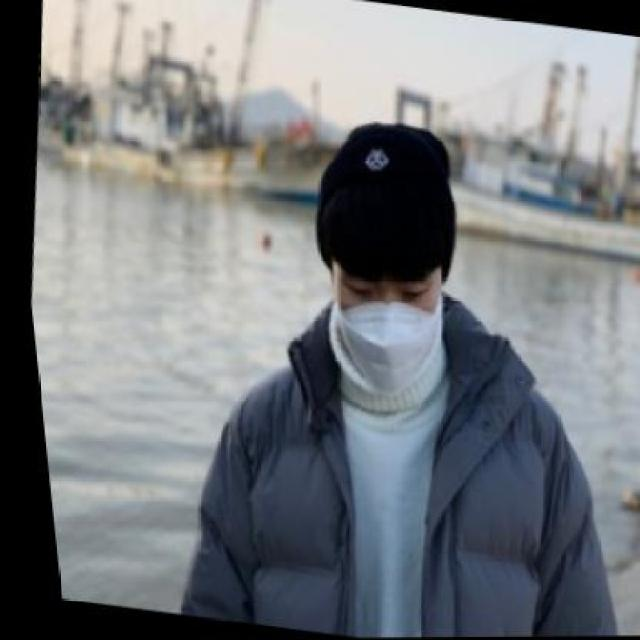hat: (295, 114, 470, 281)
